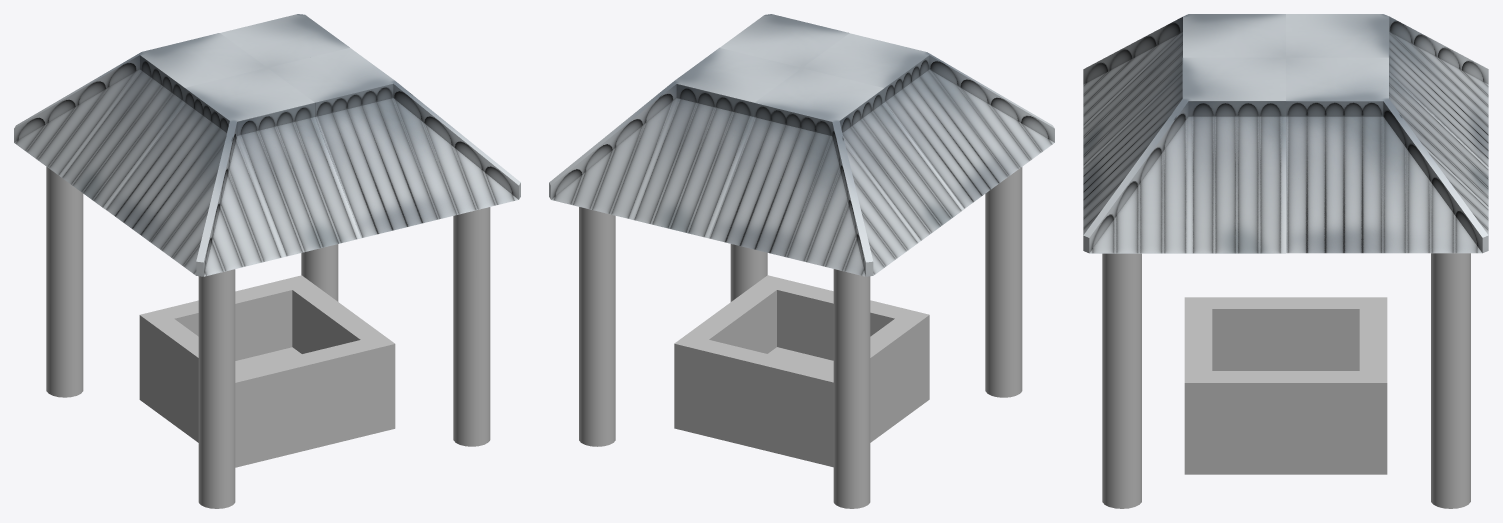
Rendered from teleporter.fbx.
3 renders of one model, left to right at view 1: azimuth 30°, elevation 25°; view 2: azimuth 150°, elevation 25°; view 3: azimuth 270°, elevation 25°, orthographic. The views are drawn at different scales.
Parts seen in each view (by area): view 1: low poly roof 043, Plane067, low poly roof 044, low poly roof 042, Cylinder009, Cylinder004, Cylinder011, low poly roof 045, Cylinder010; view 2: low poly roof 042, Plane067, low poly roof 045, low poly roof 043, Cylinder011, Cylinder010, Cylinder009, low poly roof 044, Cylinder004; view 3: Plane067, low poly roof 044, low poly roof 045, low poly roof 042, low poly roof 043, Cylinder004, Cylinder010.
Boxes of the visible parts, <box> form: low poly roof 043: <box>105,68,360,276</box>; Plane067: <box>139,275,395,467</box>; low poly roof 044: <box>268,48,520,238</box>; low poly roof 042: <box>14,33,266,208</box>; Cylinder009: <box>198,269,235,508</box>; Cylinder004: <box>453,207,490,446</box>; Cylinder011: <box>46,167,83,397</box>; low poly roof 045: <box>220,14,349,67</box>; Cylinder010: <box>301,244,338,301</box>; low poly roof 042: <box>708,68,963,276</box>; Plane067: <box>674,275,929,467</box>; low poly roof 045: <box>549,48,801,237</box>; low poly roof 043: <box>802,33,1054,208</box>; Cylinder011: <box>833,269,870,508</box>; Cylinder010: <box>579,207,615,446</box>; Cylinder009: <box>985,167,1022,397</box>; low poly roof 044: <box>720,14,849,67</box>; Cylinder004: <box>730,244,767,301</box>; Plane067: <box>1184,297,1387,474</box>; low poly roof 044: <box>1083,57,1285,253</box>; low poly roof 045: <box>1286,57,1488,253</box>; low poly roof 042: <box>1286,14,1488,167</box>; low poly roof 043: <box>1083,14,1285,167</box>; Cylinder004: <box>1102,253,1141,508</box>; Cylinder010: <box>1431,253,1470,508</box>.
Size of the model in its own units: 37.42 by 38.17 by 37.39.
